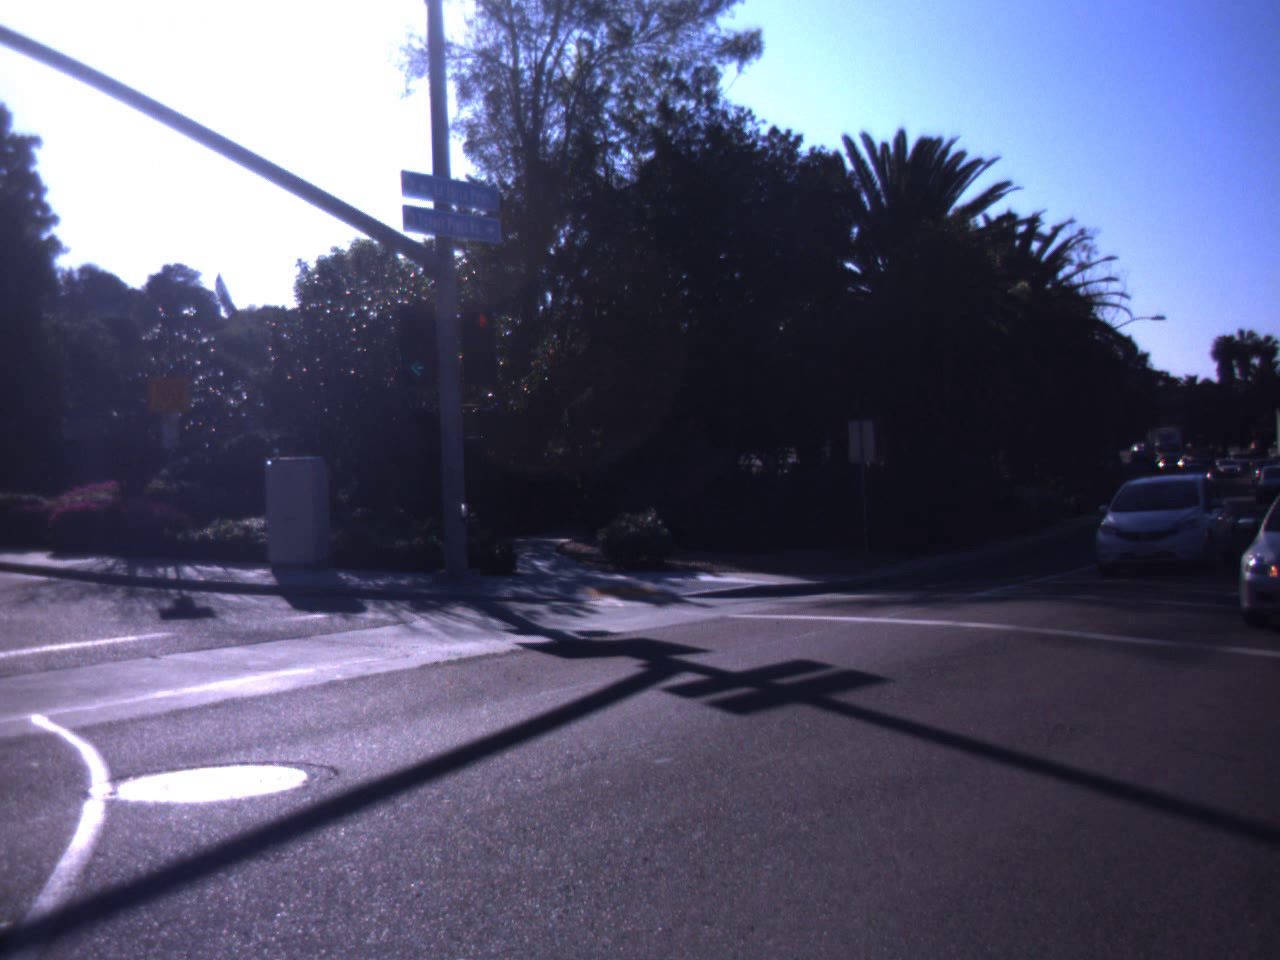go: (388, 295, 445, 385)
